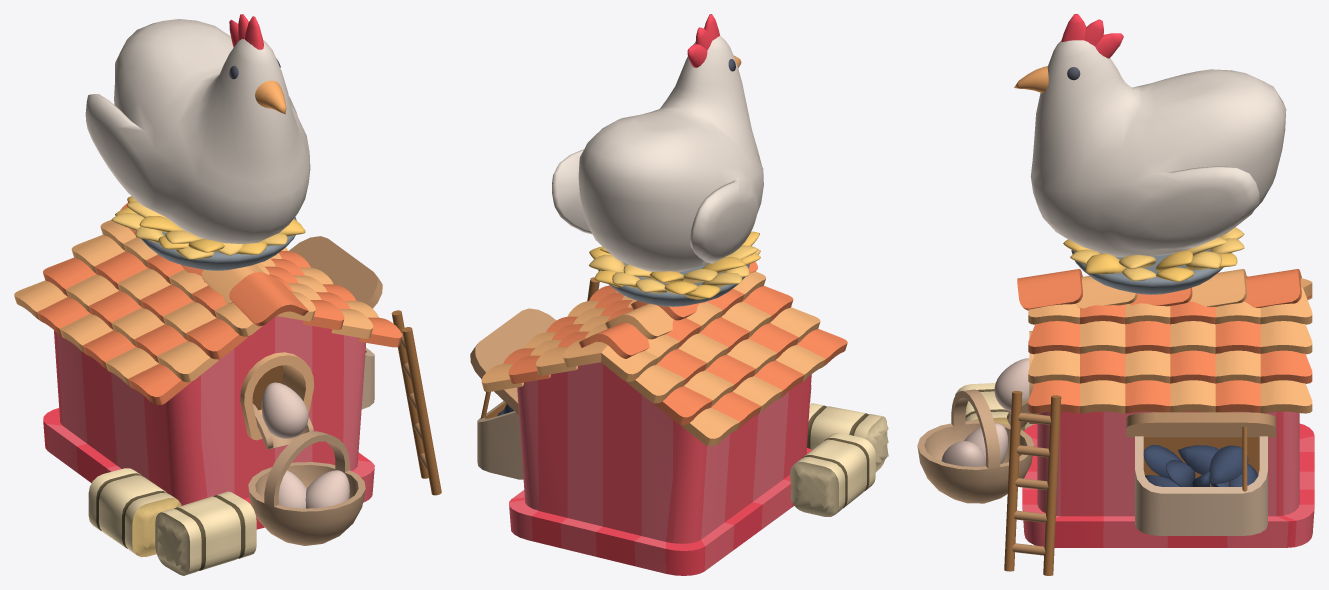
The model's file is Chicken House.fbx.
The picture shows the model from 3 angles, left to right: view 1: azimuth 30°, elevation 25°; view 2: azimuth 150°, elevation 25°; view 3: azimuth 270°, elevation 25°; orthographic projection. The views are drawn at different scales.
Visible parts, largest first — view 1: Chicken House, Chicken House.003, Chicken House.006, Chicken House.011, Chicken House.010, Chicken House.001, Chicken House.005, Chicken House.004, Chicken House.008, Chicken House.002, Chicken House.007; view 2: Chicken House, Chicken House.003, Chicken House.005, Chicken House.010, Chicken House.001, Chicken House.011; view 3: Chicken House, Chicken House.003, Chicken House.005, Chicken House.006, Chicken House.010, Chicken House.004, Chicken House.009, Chicken House.008, Chicken House.011, Chicken House.002, Chicken House.007.
Boxes of the visible parts, x1=… form: Chicken House: x1=14, y1=203, x2=401, y2=529; Chicken House.003: x1=85, y1=14, x2=310, y2=243; Chicken House.006: x1=248, y1=431, x2=365, y2=545; Chicken House.011: x1=155, y1=491, x2=256, y2=575; Chicken House.010: x1=111, y1=196, x2=305, y2=270; Chicken House.001: x1=88, y1=468, x2=181, y2=557; Chicken House.005: x1=289, y1=236, x2=382, y2=409; Chicken House.004: x1=391, y1=310, x2=441, y2=495; Chicken House.008: x1=261, y1=382, x2=308, y2=438; Chicken House.002: x1=305, y1=470, x2=349, y2=508; Chicken House.007: x1=278, y1=470, x2=306, y2=508; Chicken House: x1=481, y1=261, x2=847, y2=575; Chicken House.003: x1=552, y1=14, x2=763, y2=272; Chicken House.005: x1=470, y1=308, x2=556, y2=479; Chicken House.010: x1=589, y1=231, x2=760, y2=306; Chicken House.001: x1=790, y1=433, x2=875, y2=516; Chicken House.011: x1=807, y1=403, x2=888, y2=472; Chicken House: x1=1007, y1=269, x2=1314, y2=547; Chicken House.003: x1=1014, y1=14, x2=1286, y2=257; Chicken House.005: x1=1126, y1=412, x2=1275, y2=535; Chicken House.006: x1=917, y1=389, x2=1034, y2=503; Chicken House.010: x1=1063, y1=227, x2=1244, y2=294; Chicken House.004: x1=1004, y1=391, x2=1061, y2=575; Chicken House.009: x1=1143, y1=445, x2=1258, y2=486; Chicken House.008: x1=994, y1=358, x2=1029, y2=411; Chicken House.011: x1=955, y1=383, x2=1010, y2=425; Chicken House.002: x1=941, y1=441, x2=985, y2=466; Chicken House.007: x1=964, y1=423, x2=1008, y2=465.
Bounding box in the file's own units: 8.61 × 12.73 × 9.46.
